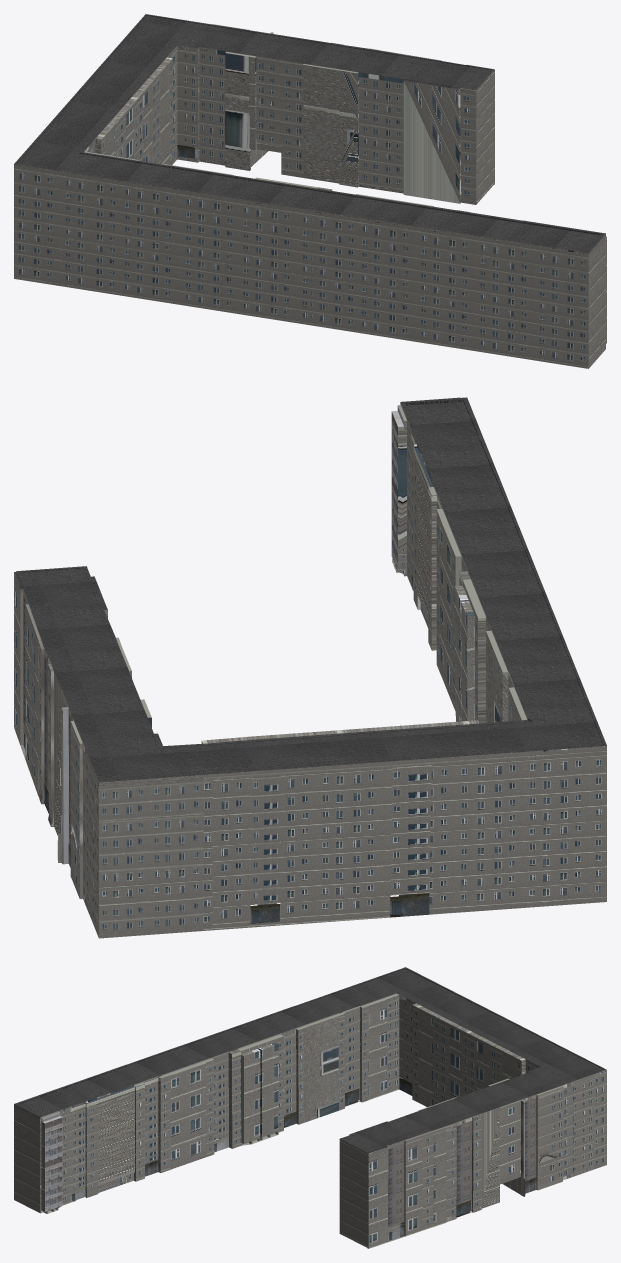
Rendered from 62House_Optimized.fbx.
3 views of the same model, one above another, from view 1: azimuth 30°, elevation 25°; view 2: azimuth 150°, elevation 25°; view 3: azimuth 270°, elevation 25° (orthographic). The views are drawn at different scales.
Visible parts, largest first — view 1: Areas:building.001; view 2: Areas:building.001; view 3: Areas:building.001.
Part boxes in pixels (bbox=[...]): Areas:building.001: bbox=[14, 14, 606, 368]; Areas:building.001: bbox=[14, 397, 606, 938]; Areas:building.001: bbox=[14, 967, 606, 1248].
Size of the model in its own units: 14839 by 3604 by 20007.
Materials: 7 (7 with a texture image).
